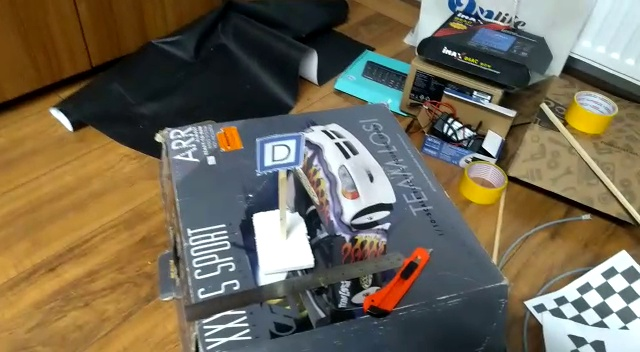durak: (257, 132, 299, 168)
